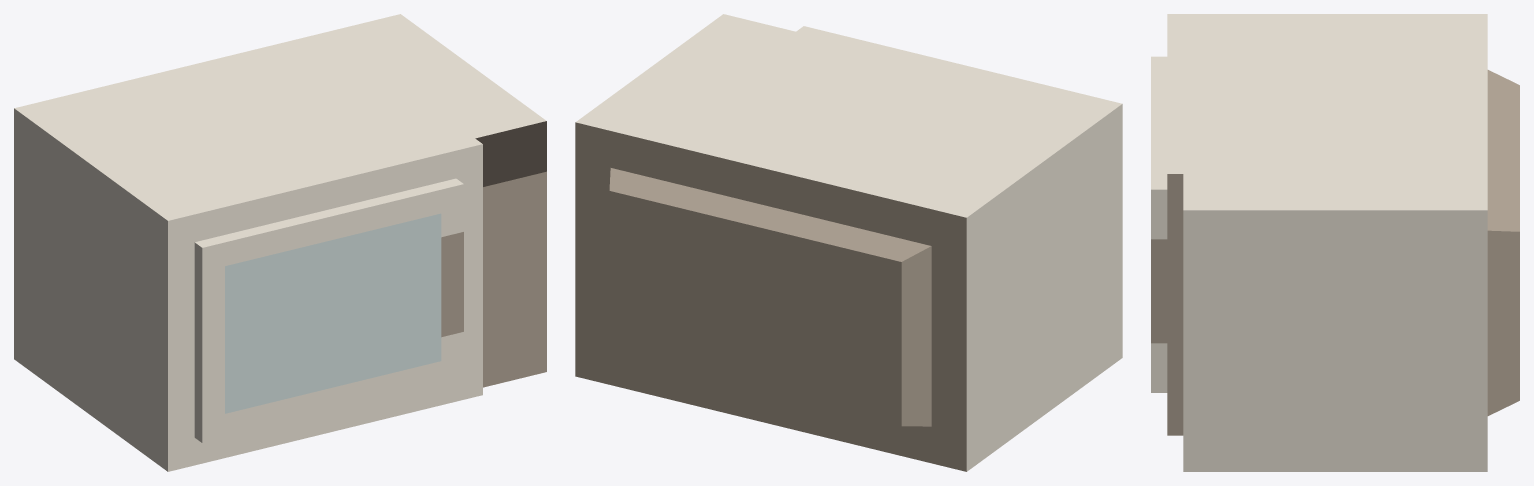
Rendered from kitKitchenMicrowave.glb.
3 views of the same model, side by side, from view 1: azimuth 30°, elevation 25°; view 2: azimuth 150°, elevation 25°; view 3: azimuth 270°, elevation 25° (orthographic). The views are drawn at different scales.
Visible parts, largest first — view 1: kitKitchenMicrowave_fabricLight, kitKitchenMicrowave_glass, kitKitchenMicrowave_metalMedium, kitKitchenMicrowave_metalDark; view 2: kitKitchenMicrowave_metalMedium, kitKitchenMicrowave_fabricLight; view 3: kitKitchenMicrowave_fabricLight, kitKitchenMicrowave_metalMedium.
Part boxes in pixels (bbox=[...]): kitKitchenMicrowave_fabricLight: bbox=[14, 14, 546, 471]; kitKitchenMicrowave_glass: bbox=[225, 213, 441, 413]; kitKitchenMicrowave_metalMedium: bbox=[441, 171, 546, 387]; kitKitchenMicrowave_metalDark: bbox=[475, 121, 546, 186]; kitKitchenMicrowave_metalMedium: bbox=[575, 122, 966, 471]; kitKitchenMicrowave_fabricLight: bbox=[576, 14, 1122, 471]; kitKitchenMicrowave_fabricLight: bbox=[1151, 14, 1487, 471]; kitKitchenMicrowave_metalMedium: bbox=[1151, 70, 1519, 435].
Size of the model in its own units: 0.34 by 0.211 by 0.2697.
